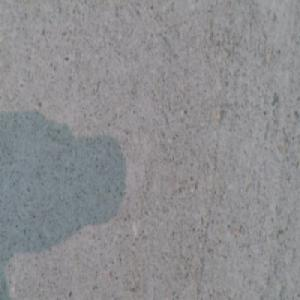Washer: (131, 286, 154, 300)
